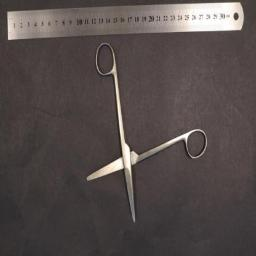Curved Mayo Scissors: (87, 42, 207, 222)
